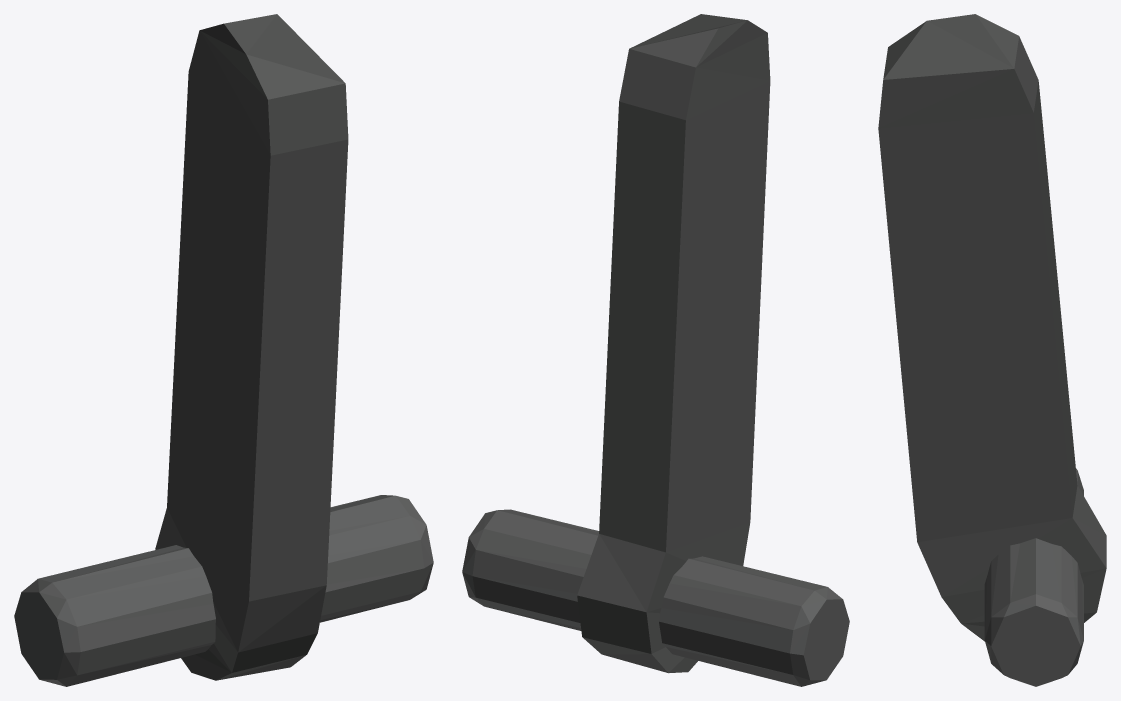
The model's file is Board_Stand_004.fbx.
The picture shows the model from 3 angles, left to right: view 1: azimuth 30°, elevation 25°; view 2: azimuth 150°, elevation 25°; view 3: azimuth 270°, elevation 25°; orthographic projection. The views are drawn at different scales.
Visible parts, largest first — view 1: Board_Stand_004; view 2: Board_Stand_004; view 3: Board_Stand_004.
Part boxes in pixels (x1,y1,x2,y2): Board_Stand_004: [14, 14, 433, 686]; Board_Stand_004: [462, 14, 849, 686]; Board_Stand_004: [878, 14, 1106, 686].
Size of the model in its own units: 0.1538 by 0.2676 by 0.0918.
